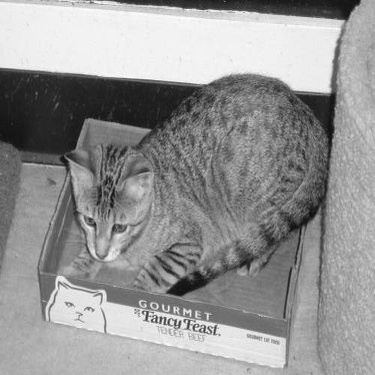cat: (64, 70, 330, 296)
